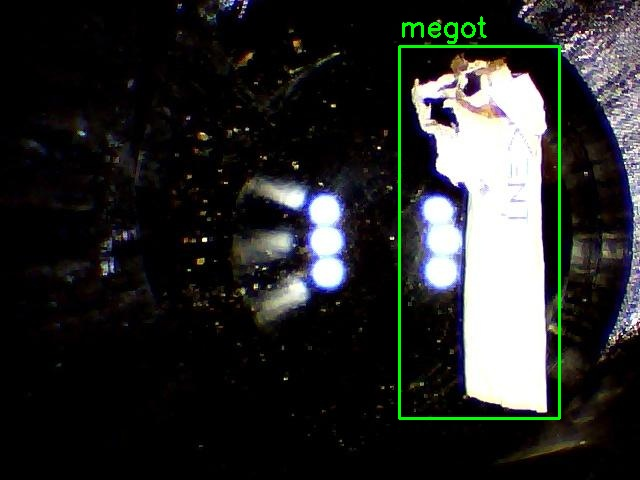megot: (399, 46, 559, 418)
